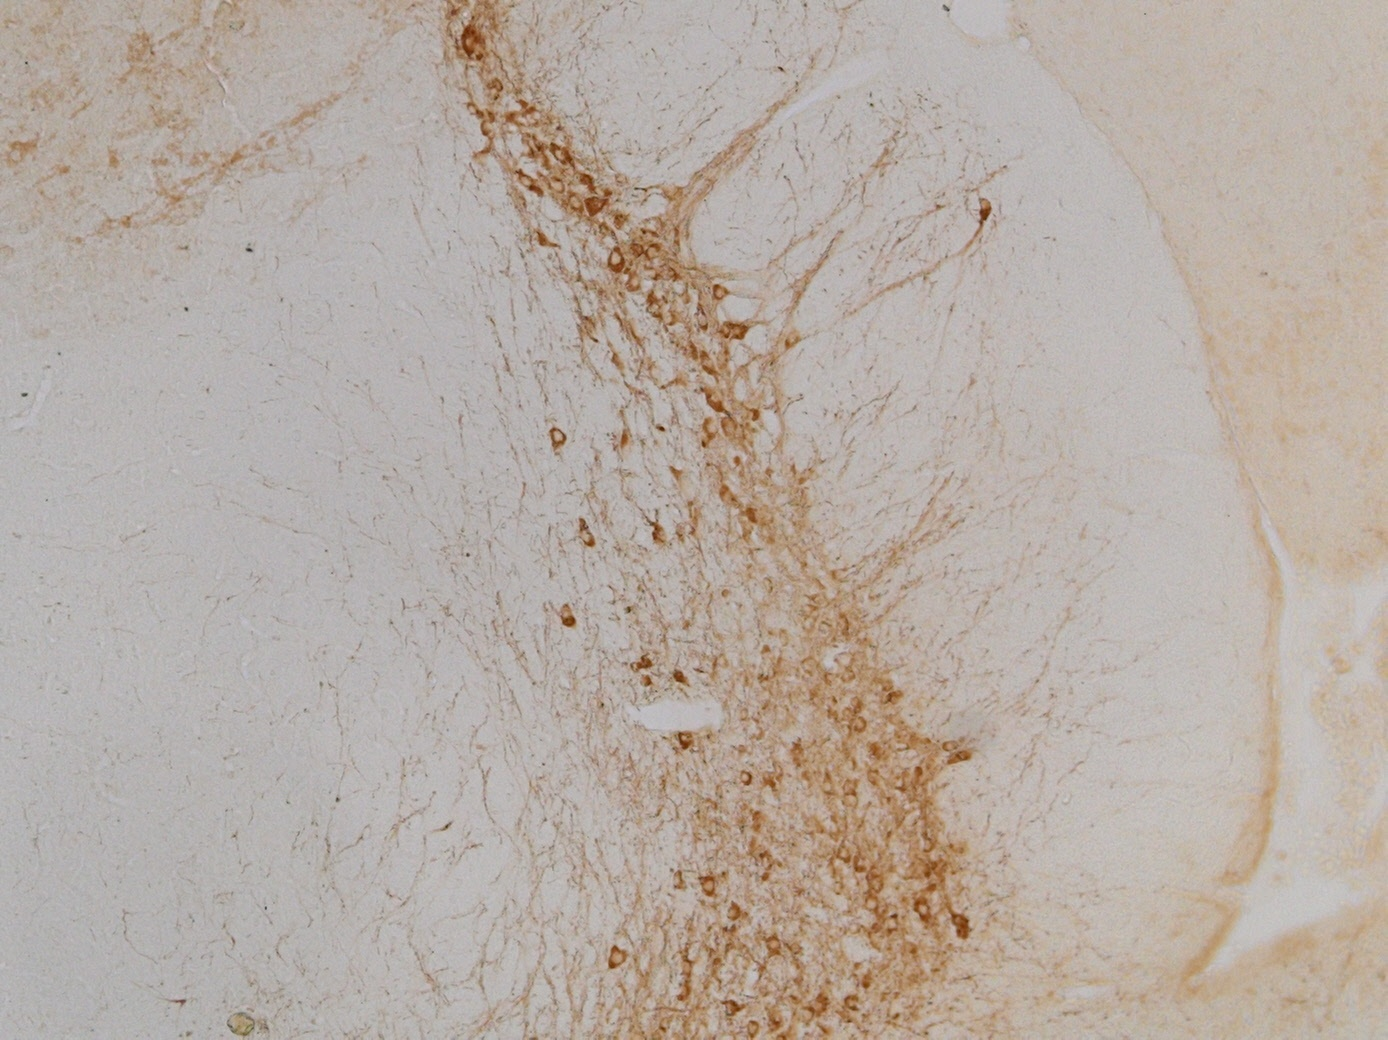neuron: (451, 23, 487, 59), (601, 941, 637, 977), (600, 243, 636, 277), (461, 97, 485, 121), (487, 75, 511, 99), (514, 167, 538, 191), (545, 175, 569, 199), (546, 425, 570, 449), (548, 143, 572, 167), (555, 602, 579, 626), (563, 189, 588, 213), (578, 527, 602, 551), (621, 271, 645, 295), (624, 655, 648, 679), (640, 240, 664, 264), (642, 298, 666, 322), (648, 524, 672, 548), (664, 867, 688, 891), (673, 728, 697, 752), (675, 956, 699, 980), (691, 308, 715, 332), (695, 352, 719, 376), (697, 875, 721, 899), (708, 281, 732, 305), (716, 484, 740, 508), (717, 997, 742, 1021), (719, 900, 743, 924), (726, 318, 750, 342), (733, 767, 757, 791), (761, 935, 785, 959), (814, 776, 838, 800), (832, 843, 856, 867), (838, 793, 862, 817), (839, 993, 863, 1017), (858, 893, 882, 917), (911, 899, 935, 923), (940, 736, 964, 760), (949, 908, 973, 932), (977, 193, 1001, 217), (849, 714, 871, 738)
